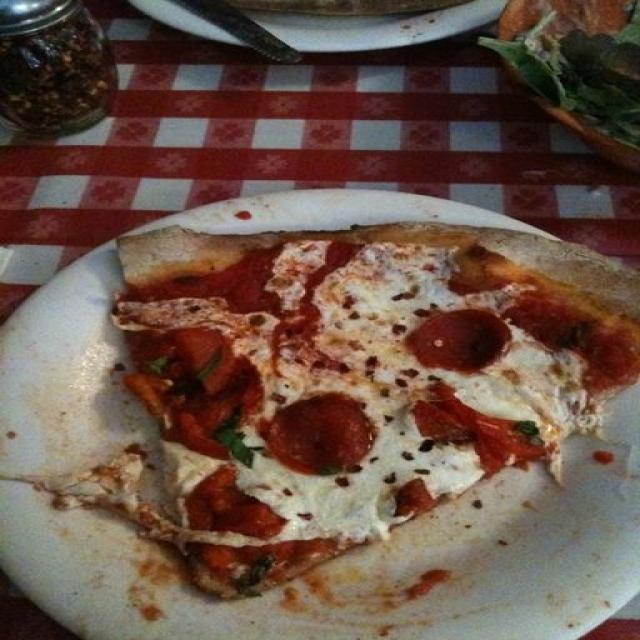Basil: (554, 319, 590, 352), (226, 432, 257, 468), (146, 358, 166, 376)
Pepperoni: (271, 394, 374, 474), (196, 476, 278, 541), (414, 310, 504, 367)
Pizza: (110, 229, 640, 596)
Tomato: (417, 386, 543, 465), (170, 332, 230, 393), (170, 413, 227, 457)
